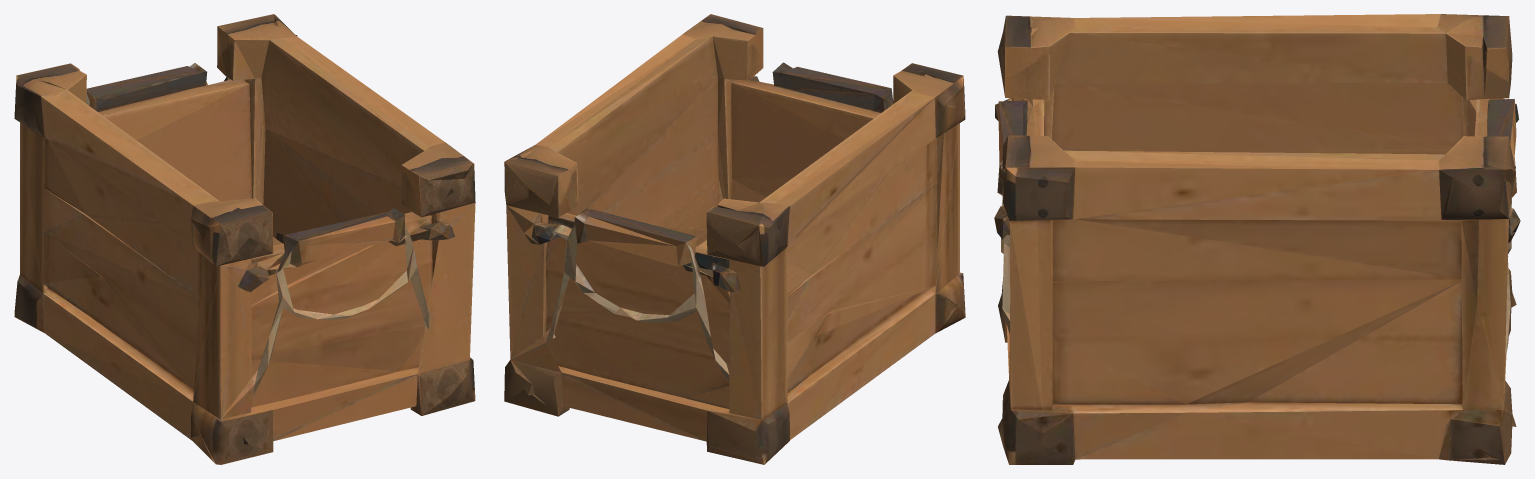
Rendered from Crate_Wooden.glb.
3 views of the same model, side by side, from view 1: azimuth 30°, elevation 25°; view 2: azimuth 150°, elevation 25°; view 3: azimuth 270°, elevation 25° (orthographic). The views are drawn at different scales.
Bounding box in the file's own units: 1.36 × 1.2 × 1.9.
1 material, 1 textured.
